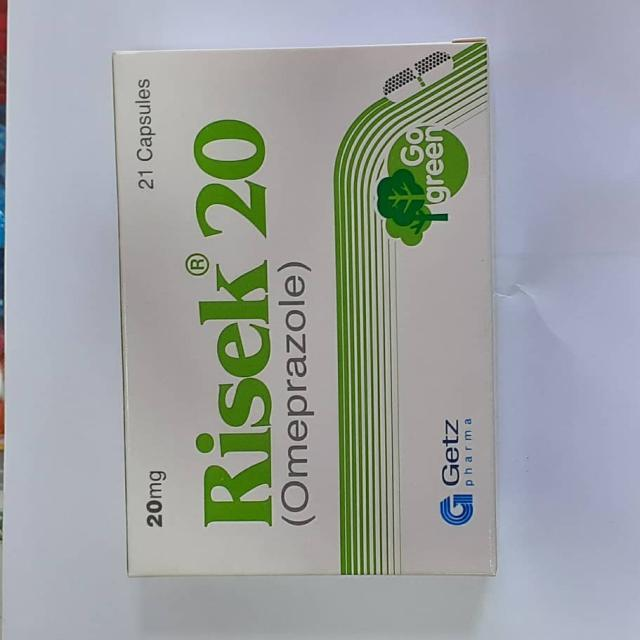drug-name: (173, 110, 274, 530)
